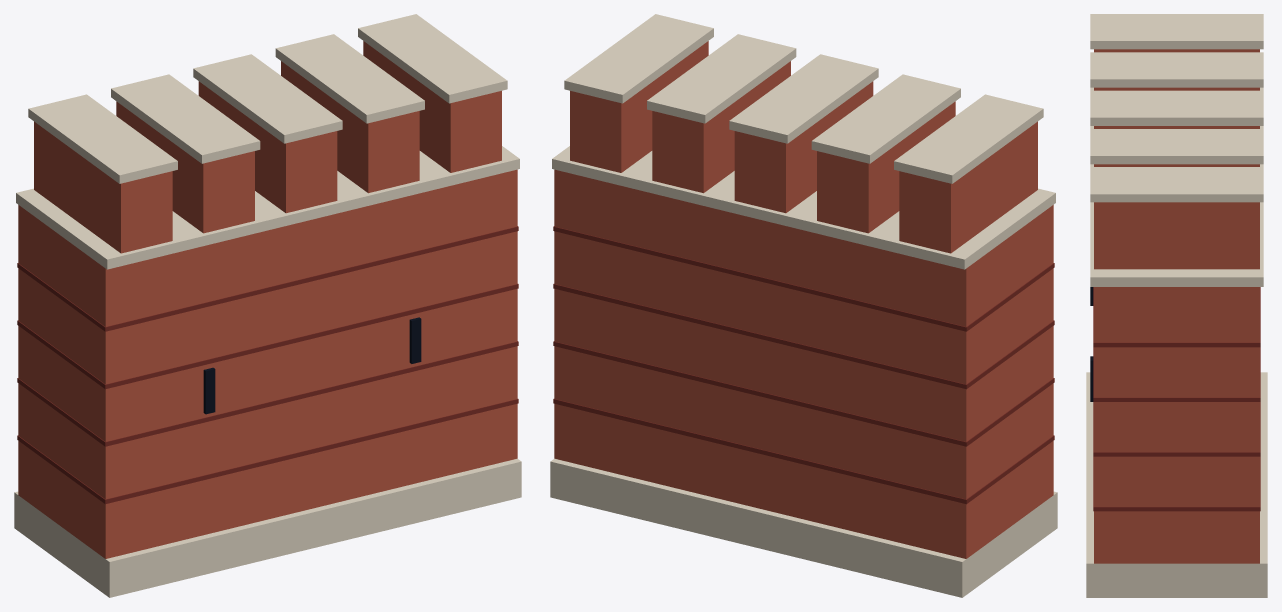
File: bld_kremlin_wall.glb
3 renders of one model, left to right at view 1: azimuth 30°, elevation 25°; view 2: azimuth 150°, elevation 25°; view 3: azimuth 270°, elevation 25°, orthographic. The views are drawn at different scales.
Parts seen in each view (by area): view 1: bld_kremlin_wall; view 2: bld_kremlin_wall; view 3: bld_kremlin_wall.
Part boxes in pixels (x1,y1,x2,y2): bld_kremlin_wall: [14, 14, 521, 597]; bld_kremlin_wall: [550, 14, 1057, 597]; bld_kremlin_wall: [1086, 14, 1267, 597].
Size of the model in its own units: 6.02 by 5.82 by 2.4.
Materials: 1 (1 with a texture image).
